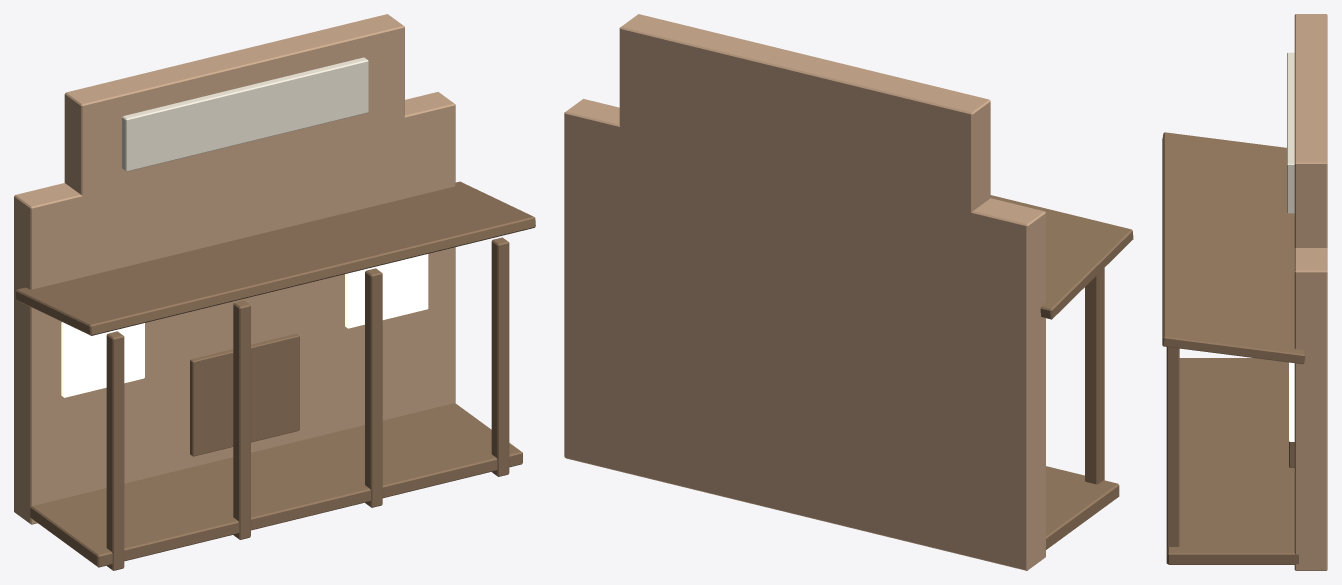
3 views of the same model, side by side, from view 1: azimuth 30°, elevation 25°; view 2: azimuth 150°, elevation 25°; view 3: azimuth 270°, elevation 25° (orthographic). The views are drawn at different scales.
Parts seen in each view (by area): view 1: SaloonFront; view 2: SaloonFront; view 3: SaloonFront.
Part boxes in pixels (box(x1,y1,x2,y2)): SaloonFront: box(14, 14, 535, 570); SaloonFront: box(564, 14, 1133, 570); SaloonFront: box(1162, 14, 1327, 570).
Bounding box in the file's own units: 4.4 × 3.85 × 1.5.
